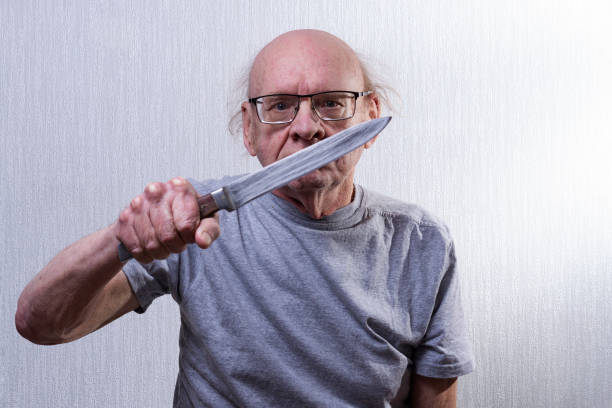knife: (117, 115, 392, 263)
